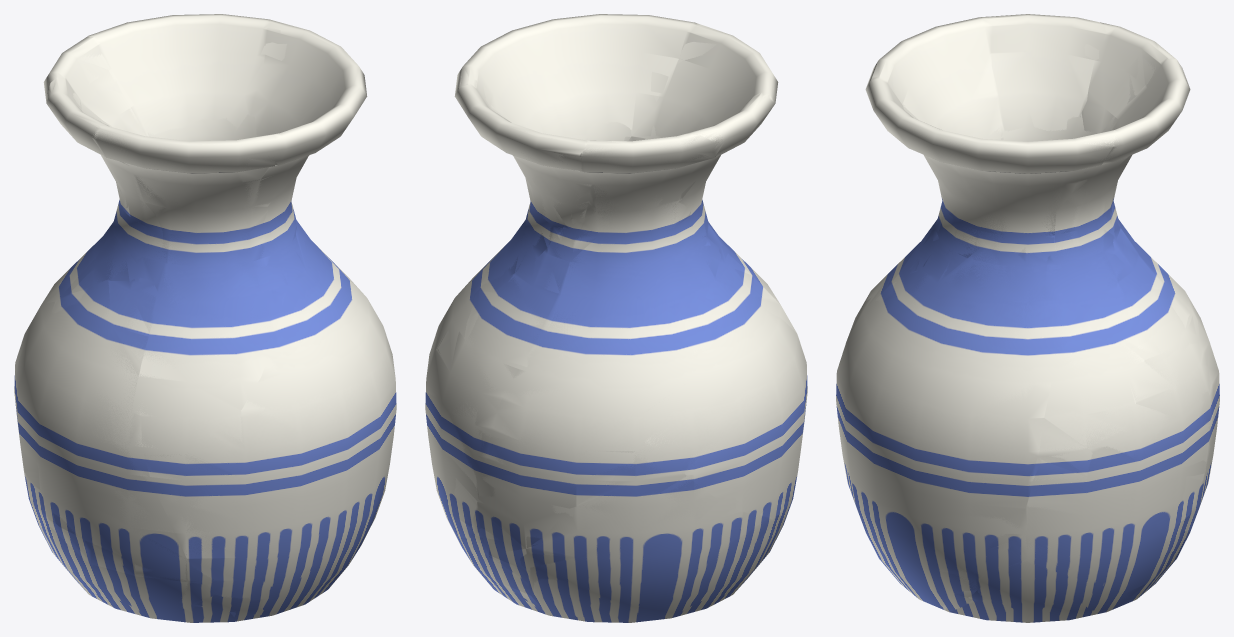
The model's file is Vase.fbx.
The picture shows the model from 3 angles, left to right: view 1: azimuth 30°, elevation 25°; view 2: azimuth 150°, elevation 25°; view 3: azimuth 270°, elevation 25°; orthographic projection.
Visible parts, largest first — view 1: Vase, shard5, shard4, shard1, shard7, shard10, shard3, shard8, shard9; view 2: Vase, shard3, shard10, shard4, shard8, shard2, shard1, shard7, shard9, shard6; view 3: Vase, shard5, shard2, shard7, shard10, shard1, shard9, shard3.
Part boxes in pixels (x1=…): Vase: x1=15, y1=14, x2=395, y2=622; shard5: x1=149, y1=208, x2=396, y2=617; shard4: x1=14, y1=281, x2=186, y2=570; shard1: x1=92, y1=122, x2=280, y2=474; shard7: x1=88, y1=14, x2=274, y2=136; shard10: x1=250, y1=21, x2=364, y2=322; shard3: x1=47, y1=38, x2=146, y2=303; shard8: x1=16, y1=415, x2=257, y2=618; shard9: x1=46, y1=77, x2=164, y2=282; Vase: x1=426, y1=14, x2=806, y2=622; shard3: x1=469, y1=133, x2=720, y2=554; shard10: x1=455, y1=14, x2=700, y2=141; shard4: x1=646, y1=242, x2=807, y2=516; shard8: x1=525, y1=441, x2=789, y2=622; shard2: x1=425, y1=209, x2=586, y2=561; shard1: x1=628, y1=24, x2=780, y2=304; shard7: x1=429, y1=83, x2=590, y2=362; shard9: x1=681, y1=95, x2=764, y2=253; shard6: x1=471, y1=545, x2=532, y2=608; Vase: x1=837, y1=14, x2=1219, y2=622; shard5: x1=836, y1=246, x2=1051, y2=610; shard2: x1=946, y1=190, x2=1213, y2=622; shard7: x1=1036, y1=58, x2=1190, y2=463; shard10: x1=871, y1=76, x2=1113, y2=273; shard1: x1=859, y1=17, x2=1001, y2=310; shard9: x1=990, y1=14, x2=1105, y2=140; shard3: x1=1080, y1=22, x2=1219, y2=537.
Size of the model in its own units: 35.04 by 49.06 by 35.04.
